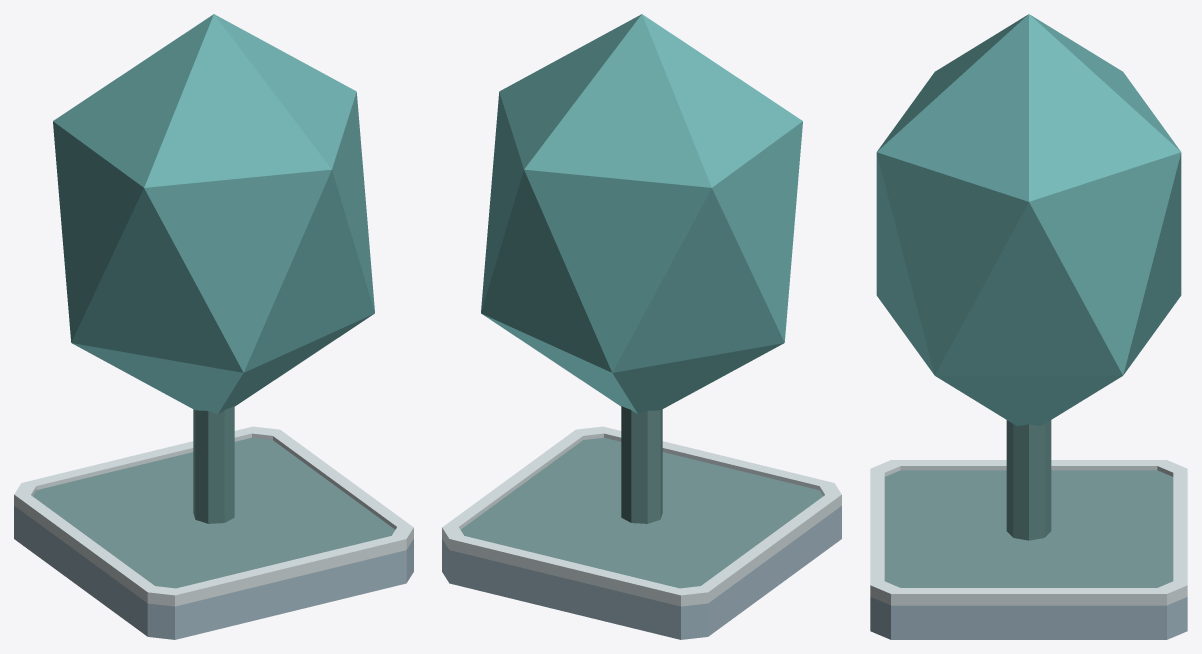
The model's file is campus_tree_round_v01.glb.
3 renders of one model, left to right at view 1: azimuth 30°, elevation 25°; view 2: azimuth 150°, elevation 25°; view 3: azimuth 270°, elevation 25°, orthographic. The views are drawn at different scales.
Visible parts, largest first — view 1: campus_tree_round; view 2: campus_tree_round; view 3: campus_tree_round.
Part boxes in pixels (x1,y1,x2,y2): campus_tree_round: [14, 14, 413, 639]; campus_tree_round: [442, 14, 841, 639]; campus_tree_round: [870, 14, 1187, 639].
Size of the model in its own units: 2.15 by 3.89 by 2.
1 material, 1 textured.
